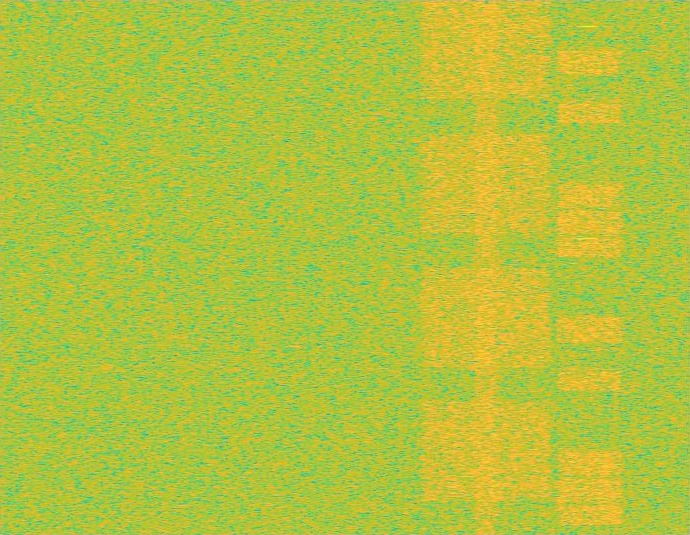5G: (417, 0, 555, 534)
DSSS: (471, 0, 502, 534)
LTE: (555, 0, 624, 534)
Radar: (581, 0, 595, 534)
